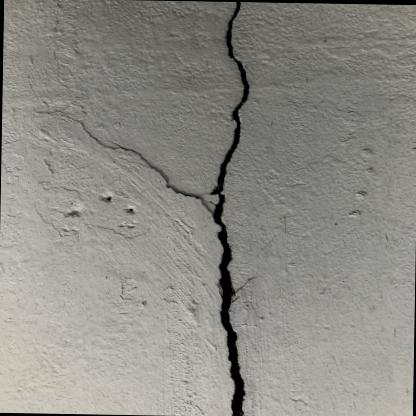crack: (71, 1, 250, 416)
